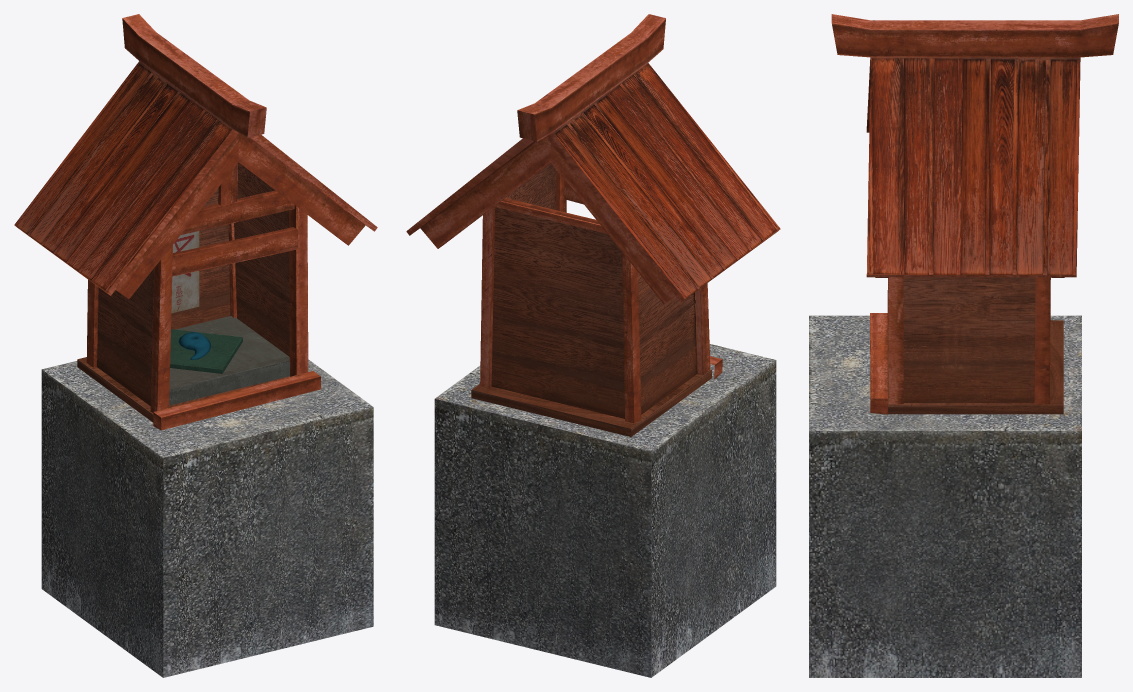
The model's file is Siramori_jinja.glb.
3 renders of one model, left to right at view 1: azimuth 30°, elevation 25°; view 2: azimuth 150°, elevation 25°; view 3: azimuth 270°, elevation 25°, orthographic. The views are drawn at different scales.
Visible parts, largest first — view 1: Object_21, Object_23; view 2: Object_21; view 3: Object_21.
Part boxes in pixels (x1,y1,x2,y2): Object_21: (14, 14, 377, 677); Object_23: (178, 332, 210, 359); Object_21: (406, 14, 780, 677); Object_21: (809, 14, 1118, 677).
Size of the model in its own units: 1.24 by 2.35 by 1.1.
Materials: 1 (1 with a texture image).
